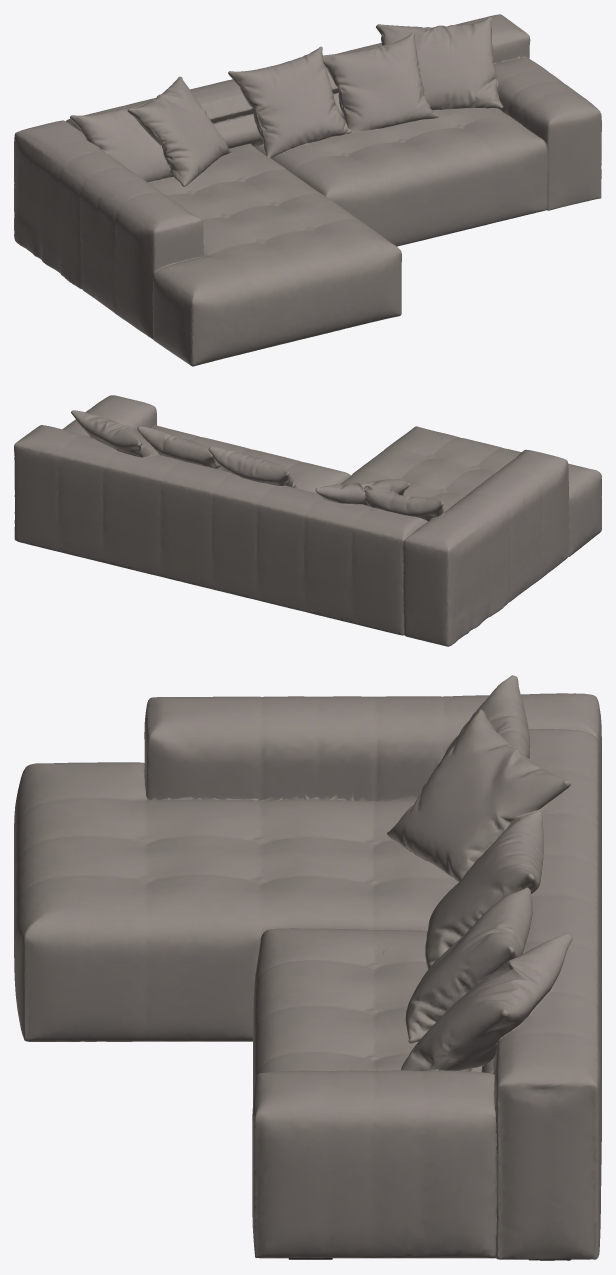
Rendered from sofaa.glb.
The picture shows the model from 3 angles, top to bottom: view 1: azimuth 30°, elevation 25°; view 2: azimuth 150°, elevation 25°; view 3: azimuth 270°, elevation 25°; orthographic projection. The views are drawn at different scales.
Visible parts, largest first — view 1: world; view 2: world; view 3: world.
Part boxes in pixels (bbox=[...]): world: bbox=[14, 14, 601, 366]; world: bbox=[14, 395, 601, 646]; world: bbox=[14, 675, 601, 1260].
Size of the model in its own units: 0.9971 by 0.2813 by 0.6296.
Materials: 1 (1 with a texture image).
